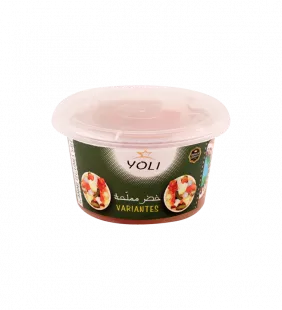YOLI: (43, 76, 237, 234)
